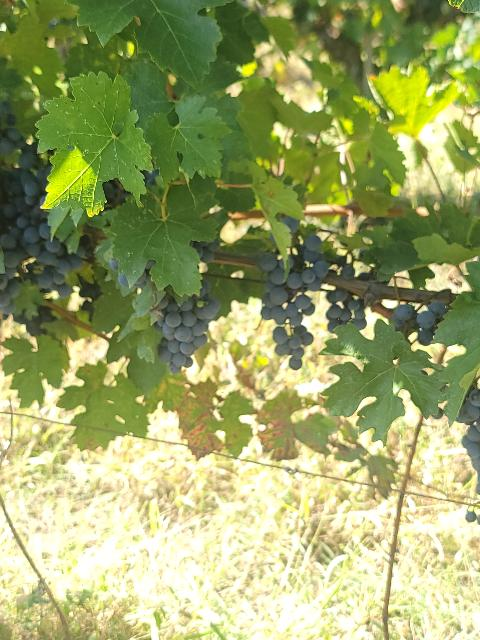grapes: (256, 234, 329, 370), (155, 280, 221, 374)
